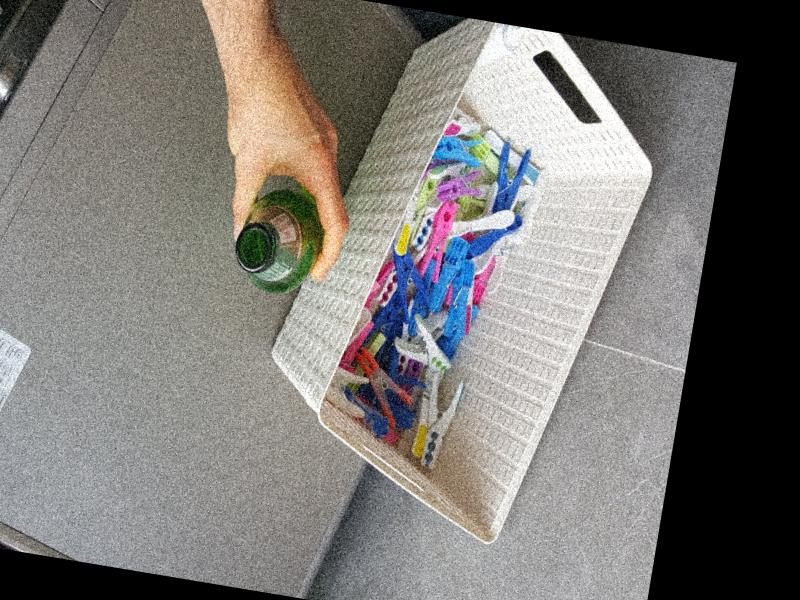Beer: (227, 180, 330, 300)
